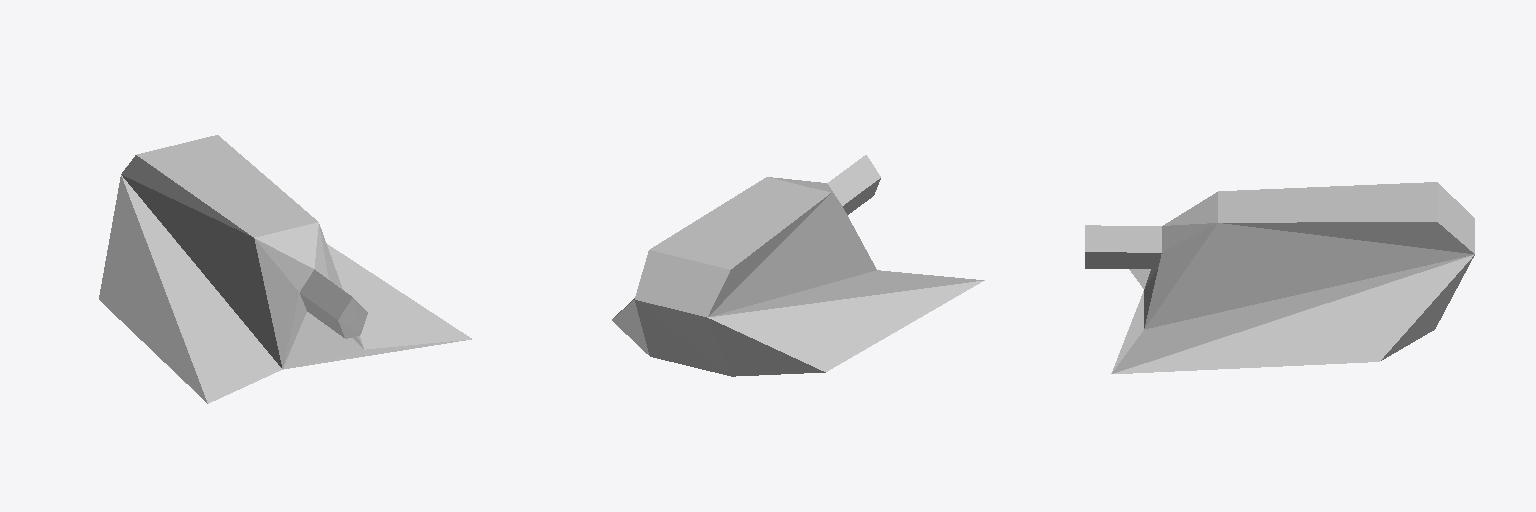
Rendered from autocannon.obj.
The picture shows the model from 3 angles: view 1: azimuth 30°, elevation 25°; view 2: azimuth 150°, elevation 25°; view 3: azimuth 270°, elevation 25°; orthographic projection.
Parts seen in each view (by area): view 1: Icosphere; view 2: Icosphere; view 3: Icosphere.
Part boxes in pixels (x1,y1,x2,y2): Icosphere: (99, 135, 471, 403); Icosphere: (612, 155, 984, 376); Icosphere: (1085, 182, 1474, 373).
Size of the model in its own units: 30 by 11.65 by 38.33.